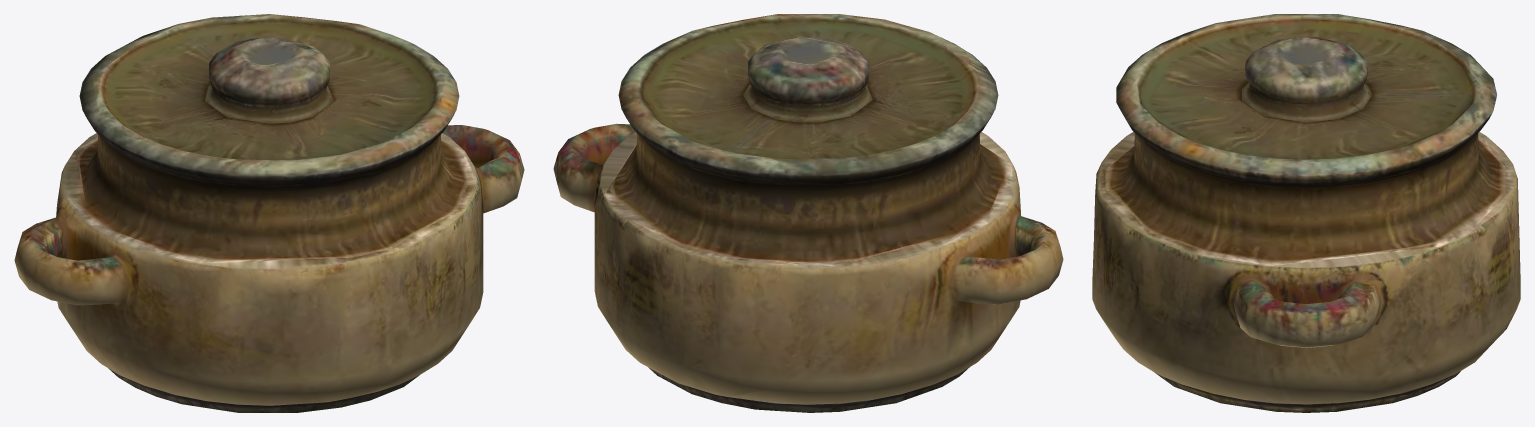
File: ceramic_pot.glb
The picture shows the model from 3 angles, left to right: view 1: azimuth 30°, elevation 25°; view 2: azimuth 150°, elevation 25°; view 3: azimuth 270°, elevation 25°; orthographic projection.
Parts seen in each view (by area): view 1: ceramic_pot; view 2: ceramic_pot; view 3: ceramic_pot.
Boxes of the visible parts, x1,y1,x2,y2 form: ceramic_pot: (14, 14, 524, 412); ceramic_pot: (553, 14, 1063, 412); ceramic_pot: (1092, 14, 1520, 412).
Bounding box in the file's own units: 0.6563 × 0.3717 × 0.4989.
1 material, 1 textured.
